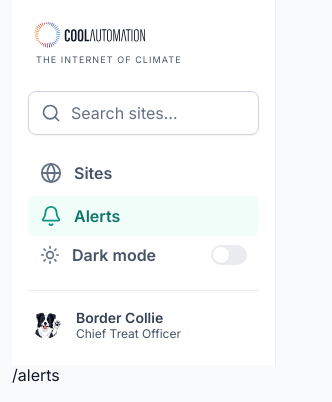
Sidebar search › navigates to the search results page on submit
Type "london" into the field labelled "Search sites…" at (158, 113), box [69,100,246,126]
Then press Enter
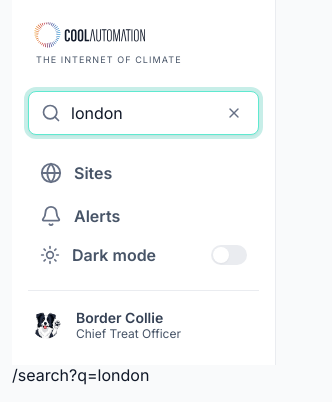
Result: the text with test id "location" reads "/search?q=london" at [12,365,149,385]
